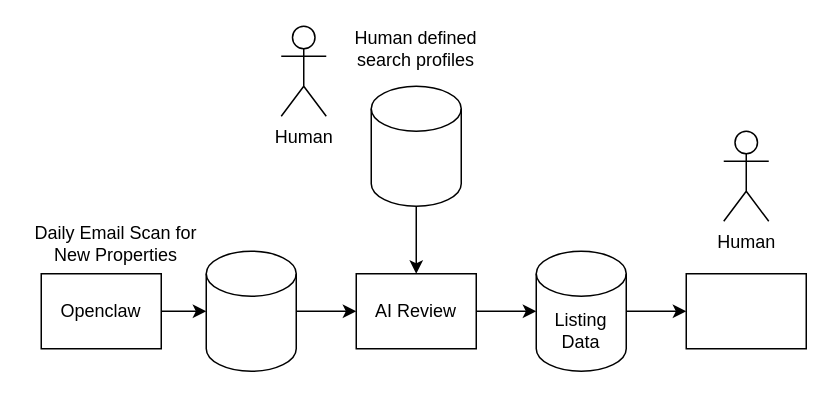
This 833x398 diagram has some shape labels left out. Each missing label, with the centre of its shape:
"Human Review" belongs at (745,310).
"New Listing Data" belongs at (250,310).
"Search Profiles" belongs at (415,145).
